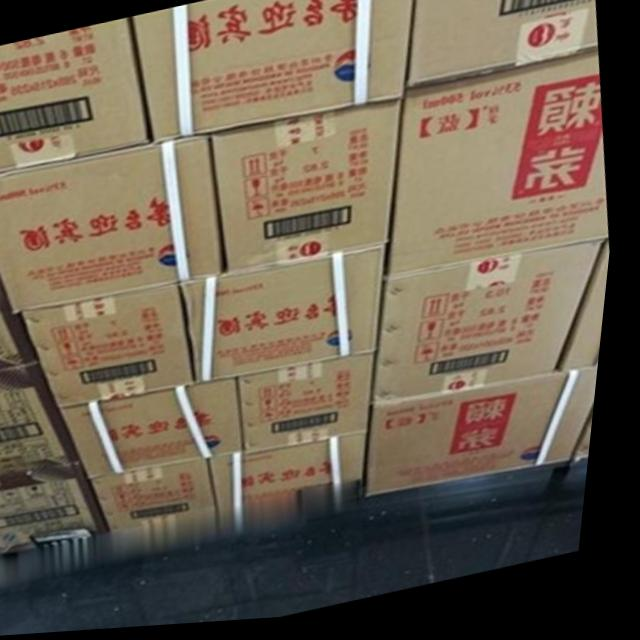box: (394, 60, 615, 282), (0, 138, 232, 315), (134, 0, 416, 145), (380, 248, 612, 409), (213, 103, 405, 277), (376, 373, 607, 503), (187, 250, 394, 387), (0, 19, 159, 174), (27, 286, 204, 410), (68, 380, 254, 480), (409, 0, 600, 94), (245, 357, 384, 458), (219, 438, 377, 512), (0, 462, 119, 558), (0, 362, 91, 479), (99, 463, 227, 535), (567, 246, 616, 379), (0, 264, 46, 372)
